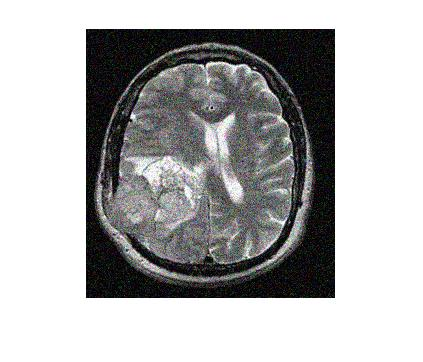Brain_Cancer: (113, 144, 206, 244)
